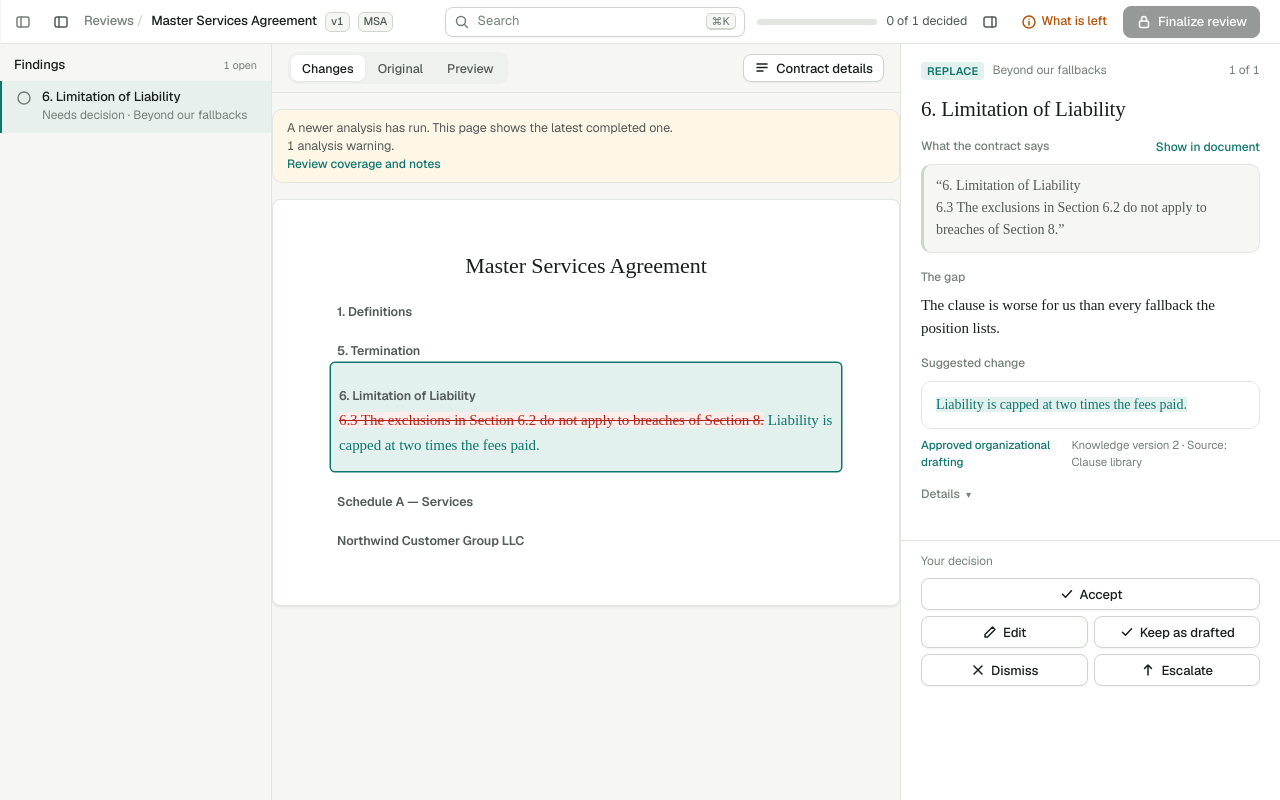
workspace decisions — ACCEPT › records an executable recommendation with the current version and no extra fields
The image size is (1280, 800).
Expected: the element named "Finding detail" is shown, [900,44,1279,799]
Click the button "Accept".
click(1090, 594)  # box [921,578,1260,610]
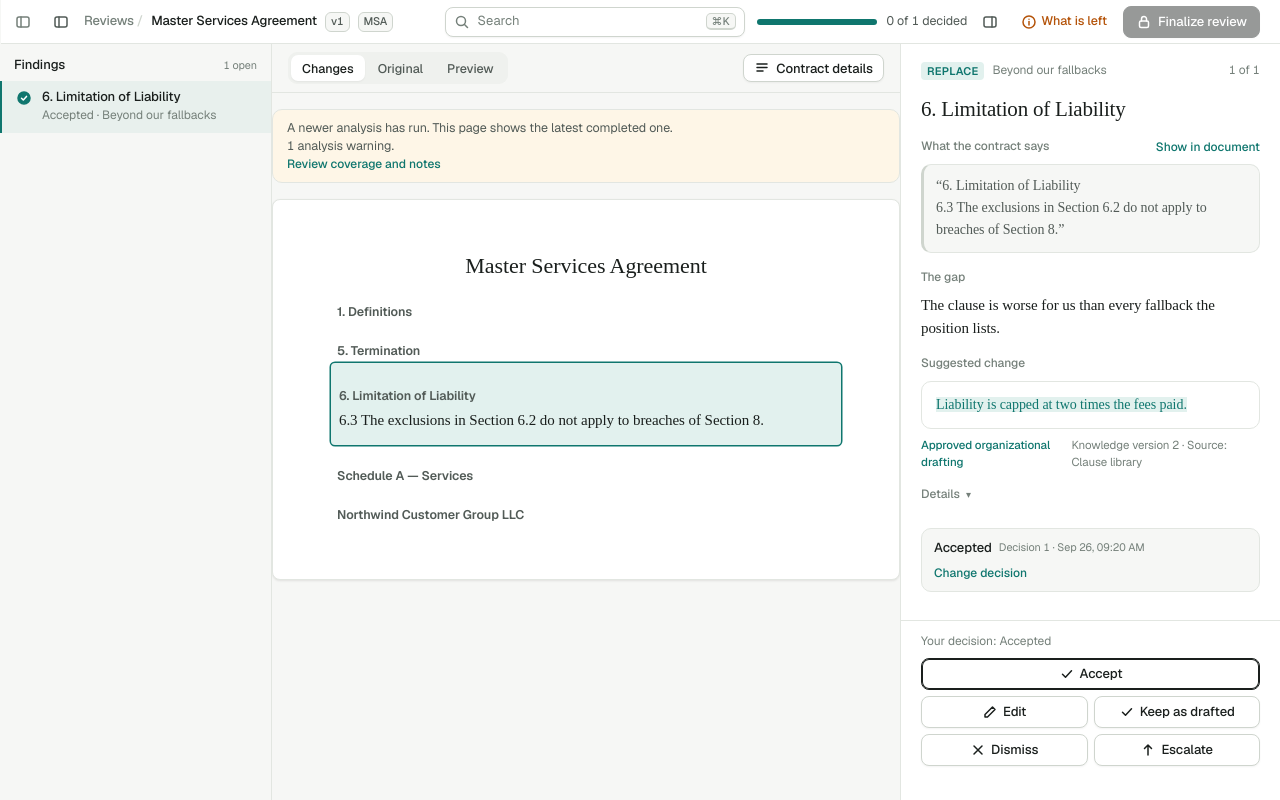
Expected: the text "Accepted" is shown, [934,539,992,558]
Expected: the text "Decision 1 · Sep 26, 09:20 AM" is shown, [999,540,1145,556]
